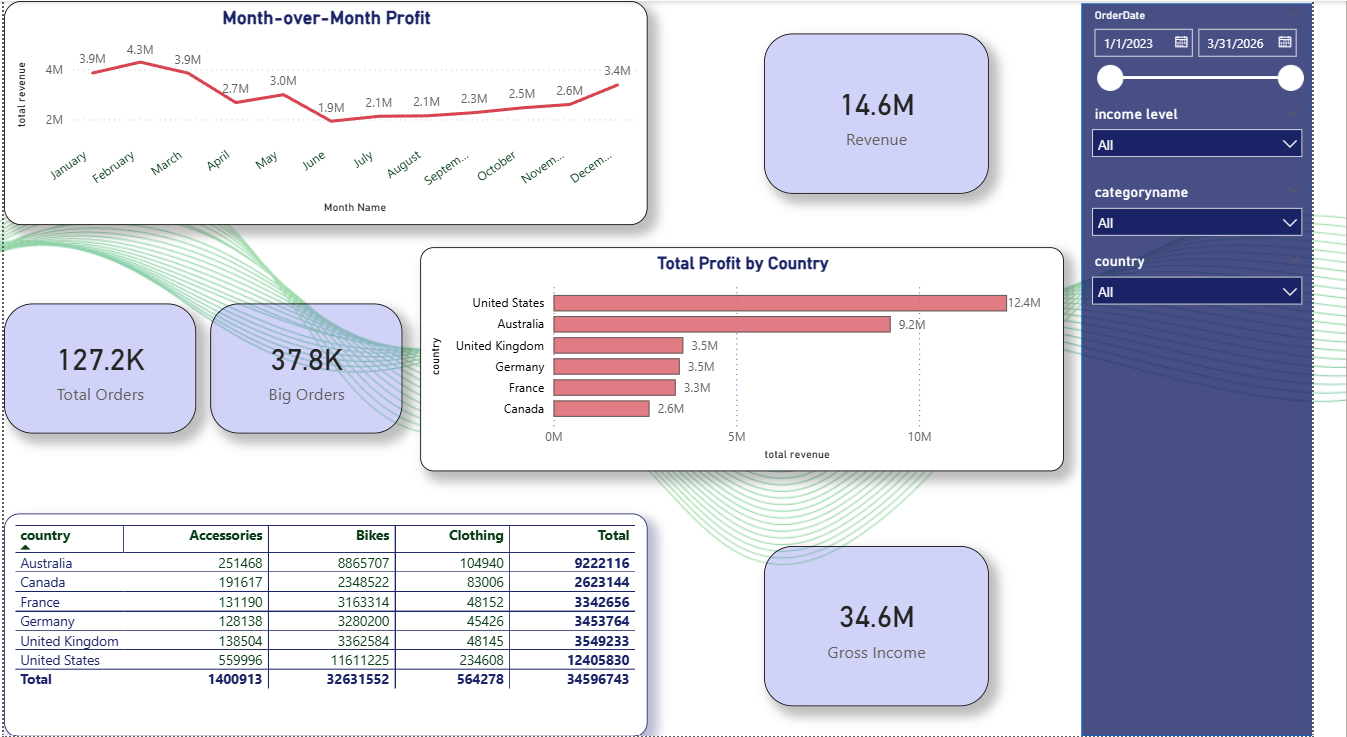

This screenshot's page, from the dashboard's own definition file:
{"tool":"powerbi","page":{"name":"Sales Performance","canvas":[1280,720],"ordinal":0},"visuals":[{"type":"clusteredBarChart","title":"Total Profit by Country","fields":{"Y":["pbi calendar_lookup.total sales"],"Category":["pbi territory_lookup.country"]},"box":[407.2,240.9,629.8,218.9],"z":0},{"type":"lineChart","title":"Month-over-Month Profit","fields":{"Y":["pbi calendar_lookup.total sales"],"Category":["sales data.Month Name"]},"box":[0,0,629.8,218.9],"z":1000},{"type":"pivotTable","title":"Total Revenue by Country and Category","fields":{"Rows":["pbi territory_lookup.country"],"Columns":["pbi product_categories_lookup.categoryname"],"Values":["pbi calendar_lookup.total sales"]},"box":[0,501.4,629.8,218.9],"z":2000},{"type":"card","fields":{"Values":["pbi calendar_lookup.total sales"]},"box":[743.5,533.2,220.1,156.5],"z":7000},{"type":"card","fields":{"Values":["pbi calendar_lookup.total sales"]},"box":[0,295.9,188.3,127.2],"z":8000},{"type":"shape","box":[1054.1,2.4,226.2,717.8],"z":8500},{"type":"card","fields":{"Values":["pbi calendar_lookup.მოგება"]},"box":[743.5,31.8,220.1,156.5],"z":9000},{"type":"card","fields":{"Values":["pbi calendar_lookup.1-ზე მეტი პროდუქტის შეკვეთა"]},"box":[201.8,295.9,188.3,127.2],"z":10000},{"type":"slicer","fields":{"Values":["pbi territory_lookup.country"]},"box":[1053.8,240.9,226.2,64.8],"z":10500},{"type":"slicer","fields":{"Values":["pbi product_categories_lookup.categoryname"]},"box":[1053.8,173.6,226.2,67.3],"z":11000},{"type":"slicer","fields":{"Values":["sales data.OrderDate"]},"box":[1053.8,2.4,226.2,94.2],"z":11500},{"type":"slicer","fields":{"Values":["pbi customer_lookup.income level"]},"box":[1053.8,96.6,226.2,77],"z":12000}]}

Visuals, with their boxes in screenshot pixels (x1, y1, x2, y2), scaled from the page's 1280x720 canvas onto the 1347x737 screenshot:
"Total Profit by Country" clusteredBarChart: (429,247,1091,471)
"Month-over-Month Profit" lineChart: (0,0,663,224)
"Total Revenue by Country and Category" pivotTable: (0,513,663,736)
card - pbi calendar_lookup.total sales: (782,546,1014,706)
card - pbi calendar_lookup.total sales: (0,303,198,433)
shape: (1109,2,1346,736)
card - pbi calendar_lookup.მოგება: (782,33,1014,193)
card - pbi calendar_lookup.1-ზე მეტი პროდუქტის შეკვეთა: (212,303,411,433)
slicer - pbi territory_lookup.country: (1109,247,1346,313)
slicer - pbi product_categories_lookup.categoryname: (1109,178,1346,247)
slicer - sales data.OrderDate: (1109,2,1346,99)
slicer - pbi customer_lookup.income level: (1109,99,1346,178)
